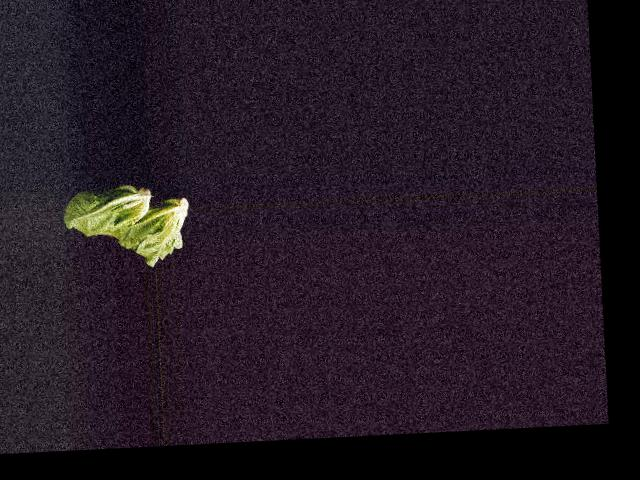lettuce: (100, 187, 191, 268)
